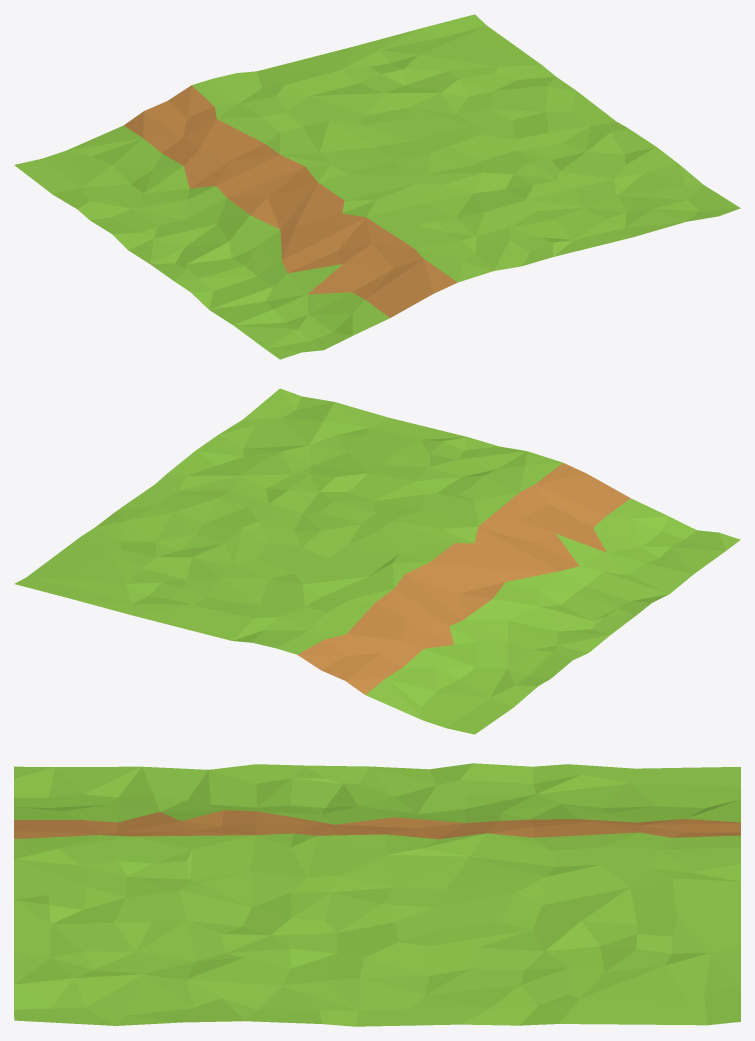
File: land.fbx
The picture shows the model from 3 angles, top to bottom: view 1: azimuth 30°, elevation 25°; view 2: azimuth 150°, elevation 25°; view 3: azimuth 270°, elevation 25°; orthographic projection. The views are drawn at different scales.
Parts seen in each view (by area): view 1: land; view 2: land; view 3: land.
Part boxes in pixels (bbox=[...]): land: bbox=[14, 14, 740, 359]; land: bbox=[14, 388, 740, 734]; land: bbox=[14, 763, 740, 1026].
Size of the model in its own units: 7707 by 659 by 7707.
